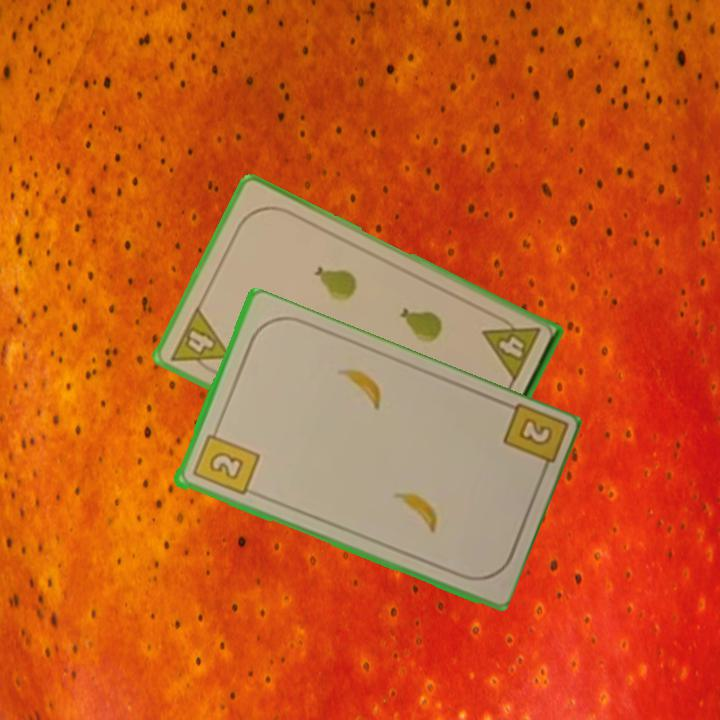2b: (188, 423, 262, 499), (498, 401, 567, 481)
4p: (166, 303, 233, 380), (479, 310, 543, 385)
